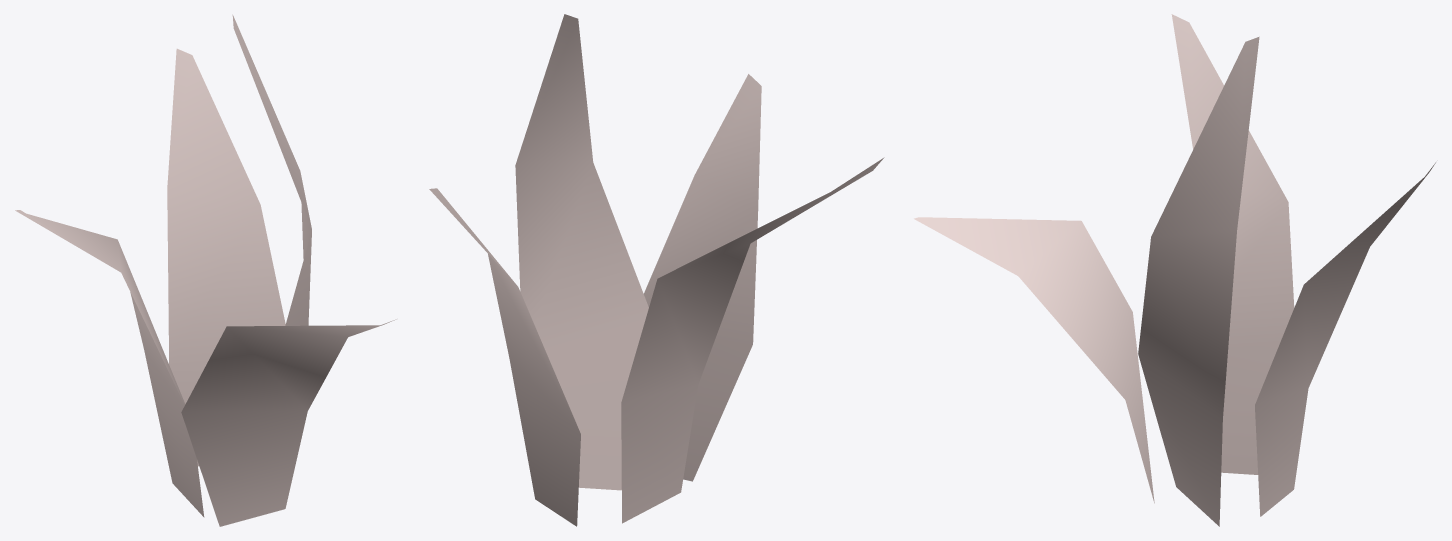
Rendered from Grass_02.fbx.
The picture shows the model from 3 angles, left to right: view 1: azimuth 30°, elevation 25°; view 2: azimuth 150°, elevation 25°; view 3: azimuth 270°, elevation 25°; orthographic projection. The views are drawn at different scales.
Visible parts, largest first — view 1: Grass.001; view 2: Grass.001; view 3: Grass.001.
Part boxes in pixels (bbox=[...]): Grass.001: bbox=[15, 14, 396, 526]; Grass.001: bbox=[429, 14, 884, 526]; Grass.001: bbox=[914, 14, 1435, 526].
Size of the model in its own units: 12.26 by 17.43 by 17.49.
